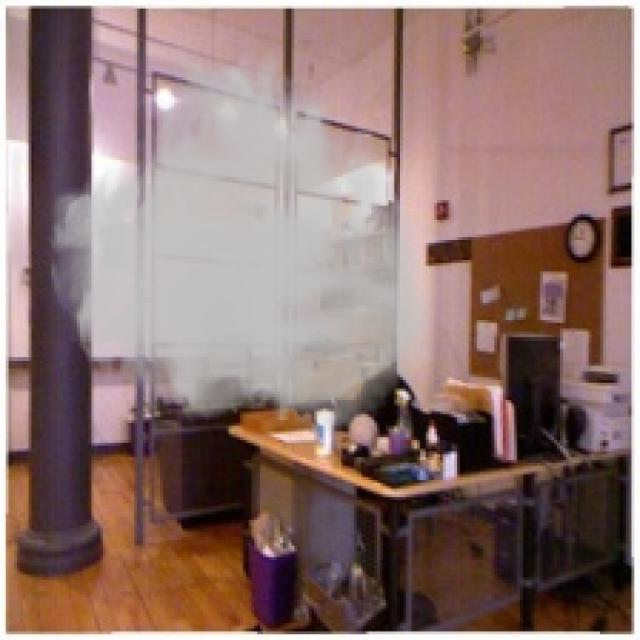Smoke: (46, 37, 437, 440)
